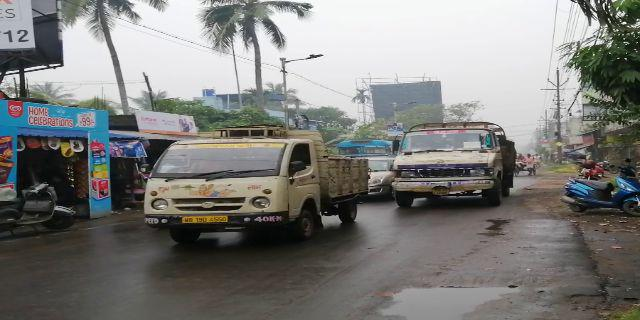Minitruck: (145, 135, 367, 241)
Motorbike: (568, 175, 639, 208)
Truck: (399, 120, 516, 207)
